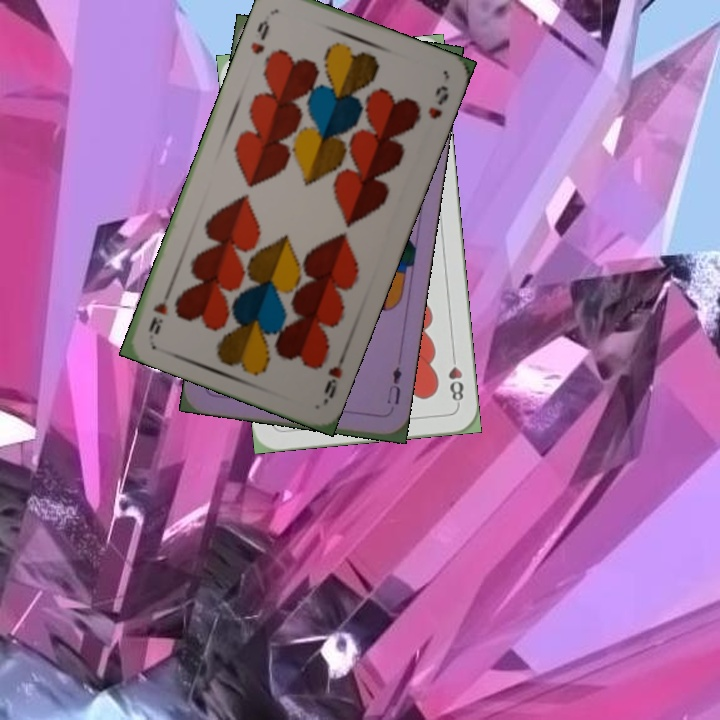EU: (382, 362, 404, 407)
H8: (444, 349, 466, 408)
H9: (320, 349, 348, 405), (247, 16, 272, 58)
